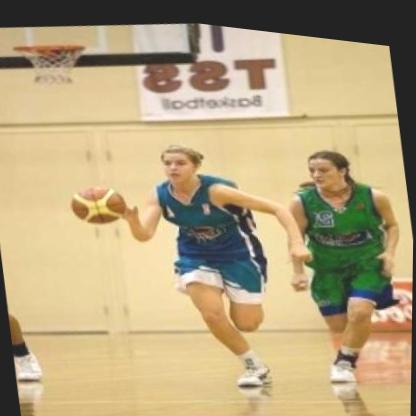basketball: (63, 172, 132, 232)
